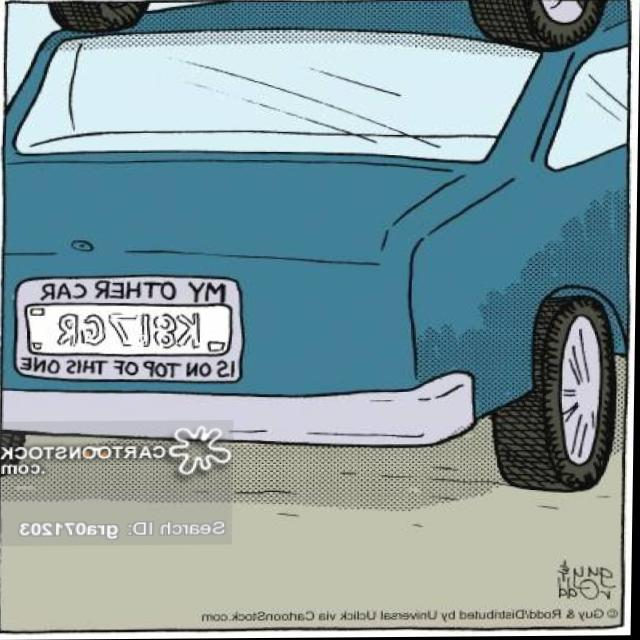licence: (42, 304, 232, 352)
